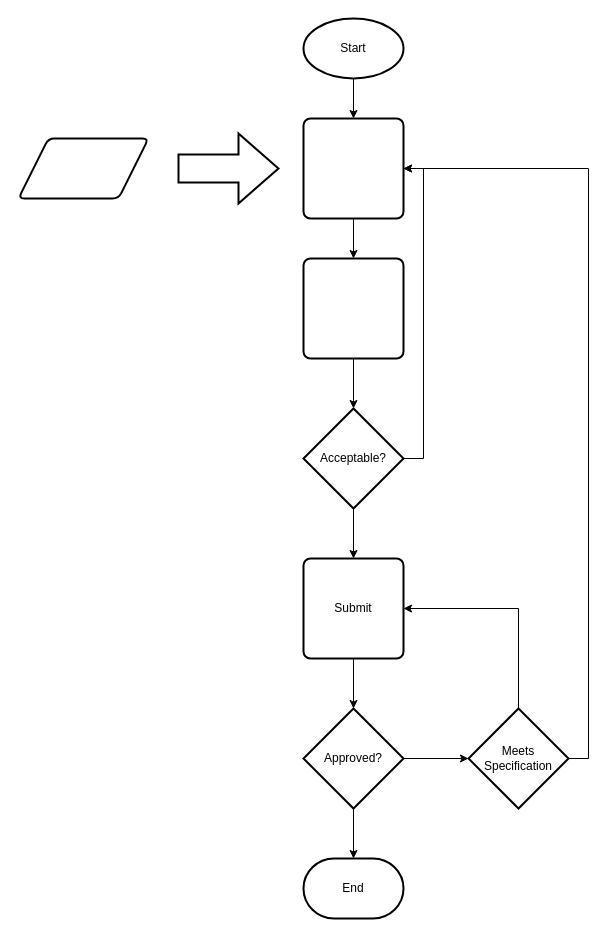
The diagram is 614 pixels wide and 936 high, and some of its shapes have lost their labels. The box of each missing label's shape, as (x1, y1, x2, y2) in pixels:
Materials Data: (17, 137, 149, 199)
Mix Proportion: (302, 117, 404, 219)
Trial Batch: (302, 257, 404, 359)
